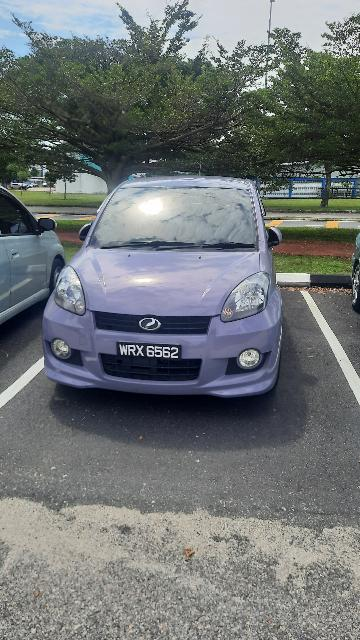License_Plate: (116, 340, 187, 364)
car: (43, 169, 289, 408)
